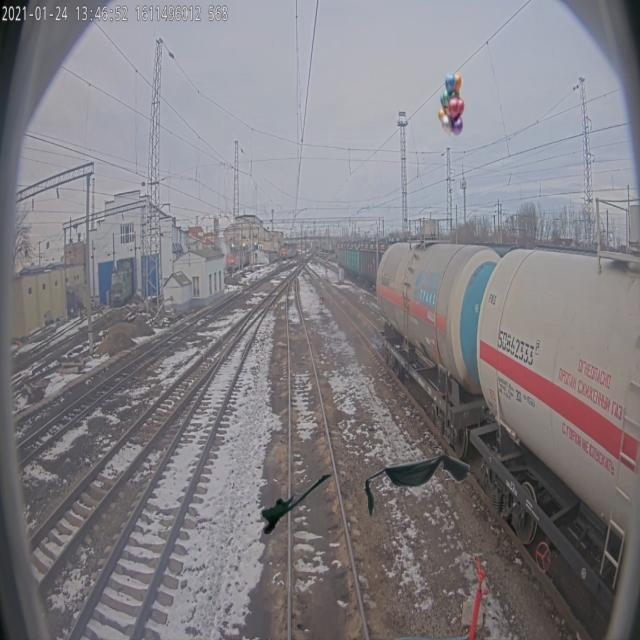balloon: (438, 72, 465, 136)
floating object: (365, 452, 472, 516), (262, 472, 336, 536)
